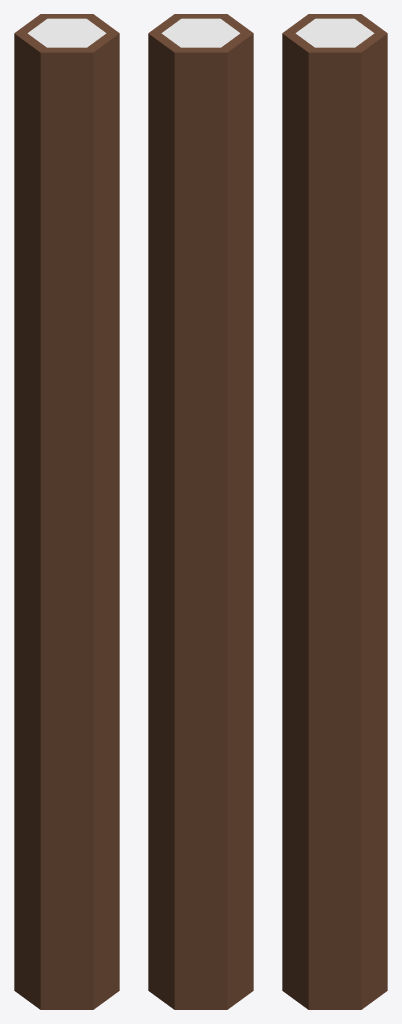
File: SPW_Natures_Wood.glb
The picture shows the model from 3 angles, left to right: view 1: azimuth 90°, elevation 25°; view 2: azimuth 150°, elevation 25°; view 3: azimuth 270°, elevation 25°; orthographic projection.
Visible parts, largest first — view 1: SPW_Natures_Wood; view 2: SPW_Natures_Wood; view 3: SPW_Natures_Wood.
Boxes of the visible parts, x1=… form: SPW_Natures_Wood: x1=14, y1=14, x2=119, y2=1009; SPW_Natures_Wood: x1=148, y1=14, x2=253, y2=1009; SPW_Natures_Wood: x1=282, y1=14, x2=387, y2=1009.
Bounding box in the file's own units: 0.433 × 5 × 0.5.
Materials: 1 (1 with a texture image).
